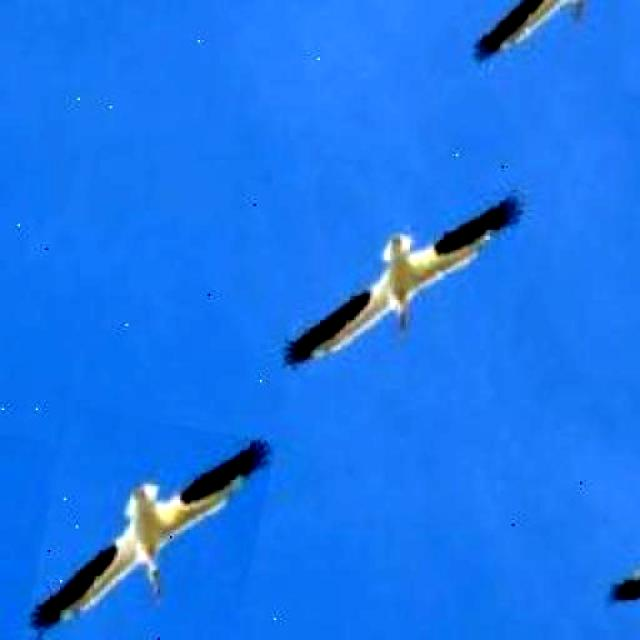airplane: (282, 156, 524, 406), (25, 404, 275, 640), (472, 0, 640, 96)
